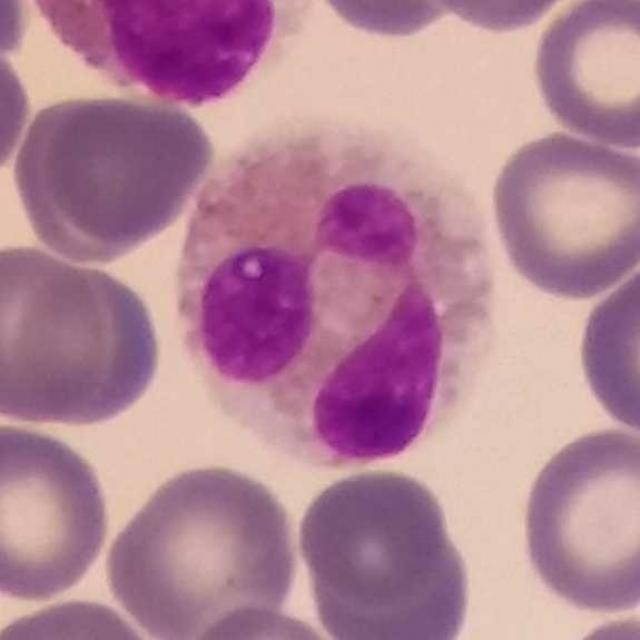Eosinophil: (161, 118, 512, 465), (29, 0, 282, 113)
RBC: (99, 457, 303, 640), (292, 463, 478, 640), (23, 89, 218, 255), (484, 126, 639, 302), (513, 423, 640, 618), (15, 268, 159, 426), (0, 416, 116, 604), (0, 241, 113, 432), (527, 0, 640, 150), (572, 254, 640, 441), (0, 593, 164, 640), (302, 0, 477, 42), (175, 602, 357, 640), (413, 0, 590, 36), (0, 29, 35, 188), (547, 607, 640, 640), (0, 0, 35, 67)
